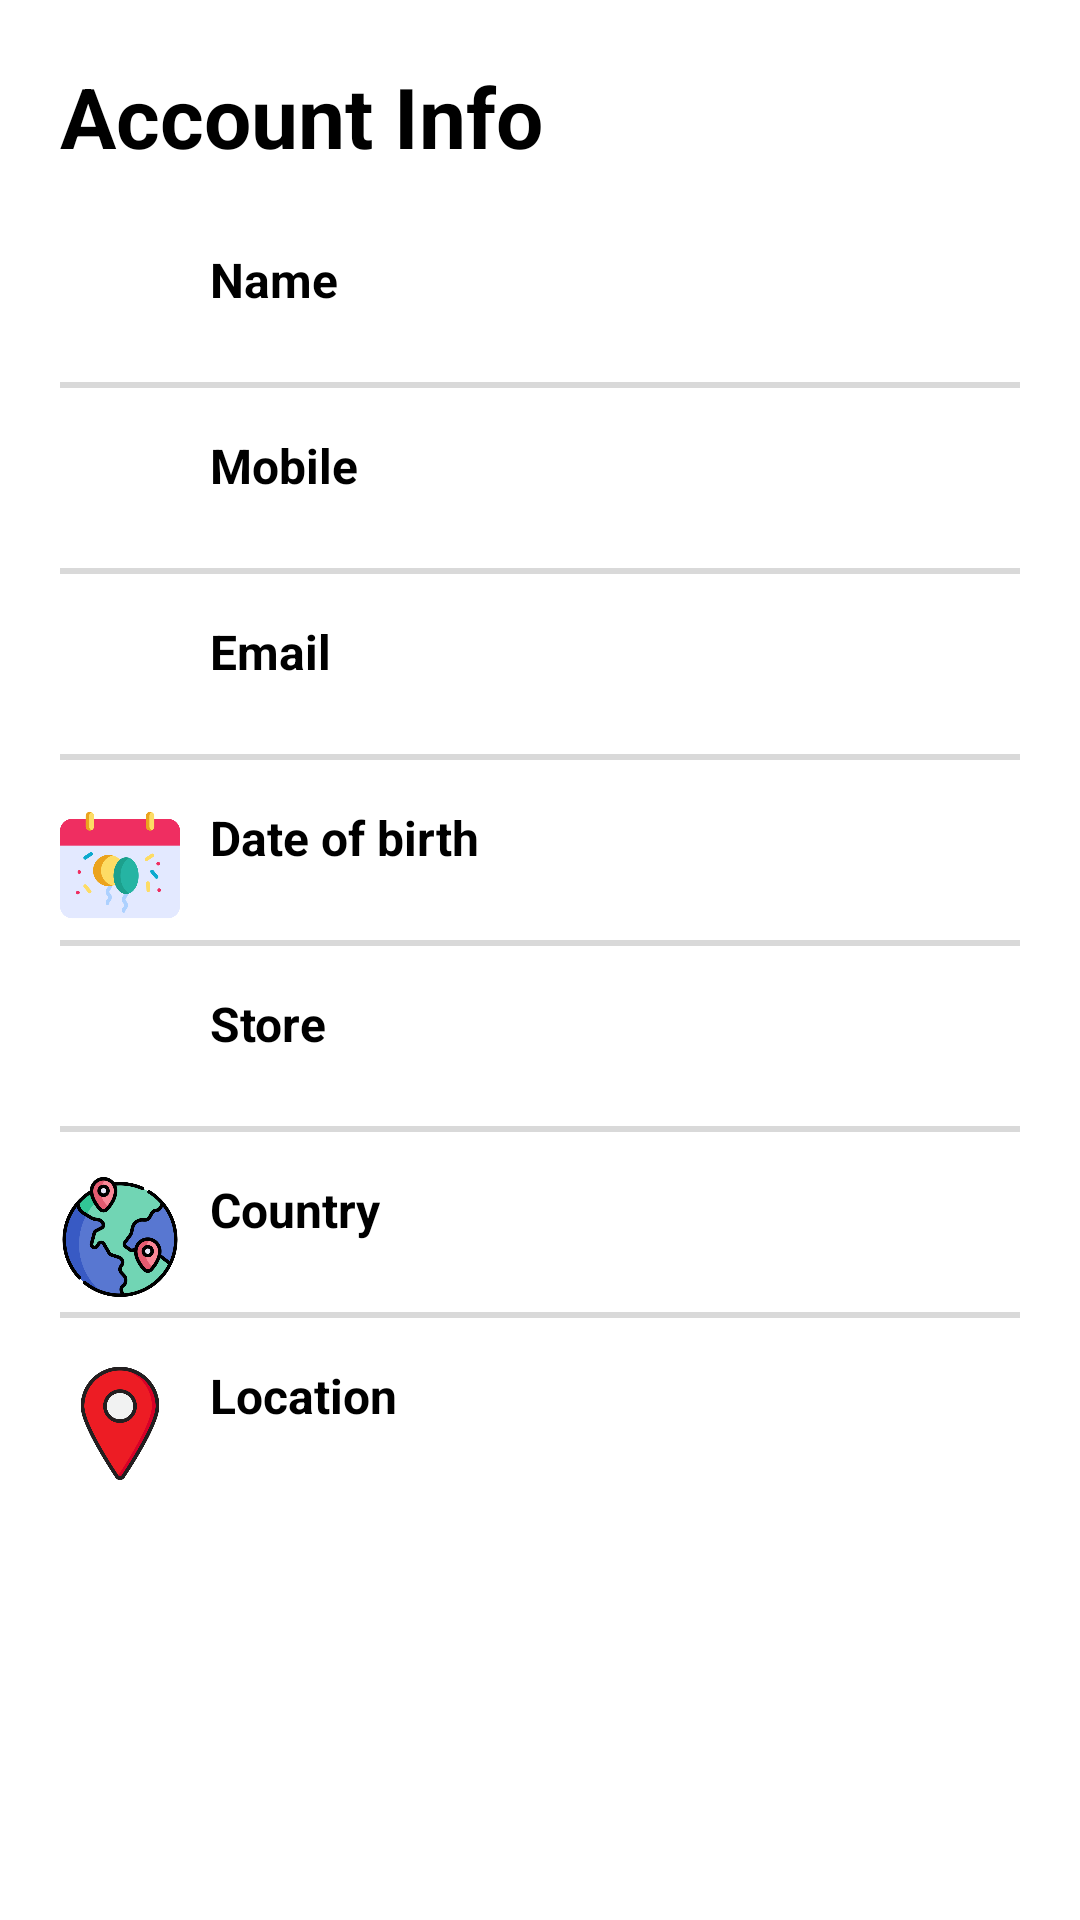

Point at icon controls on the screen. Image size 1080w x 1920h, points as (x,y).
dob: (120,865)
